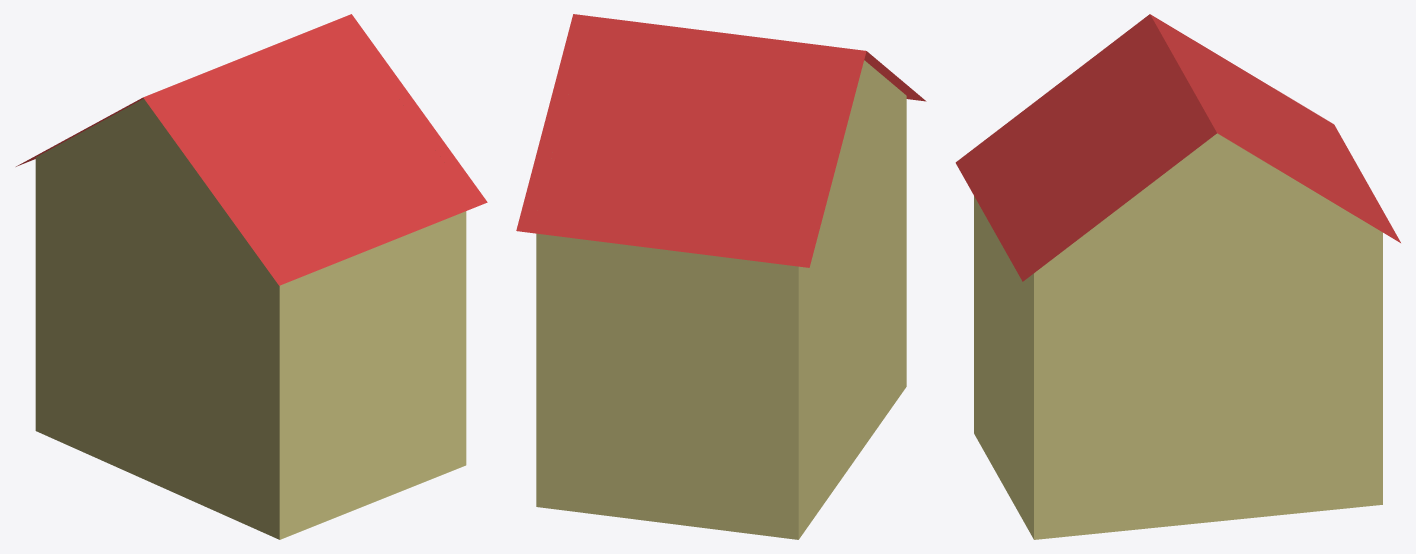
3 views of the same model, side by side, from view 1: azimuth 30°, elevation 25°; view 2: azimuth 150°, elevation 25°; view 3: azimuth 270°, elevation 25° (orthographic). The views are drawn at different scales.
Bounding box in the file's own units: 12.16 × 14.56 × 14.22.
